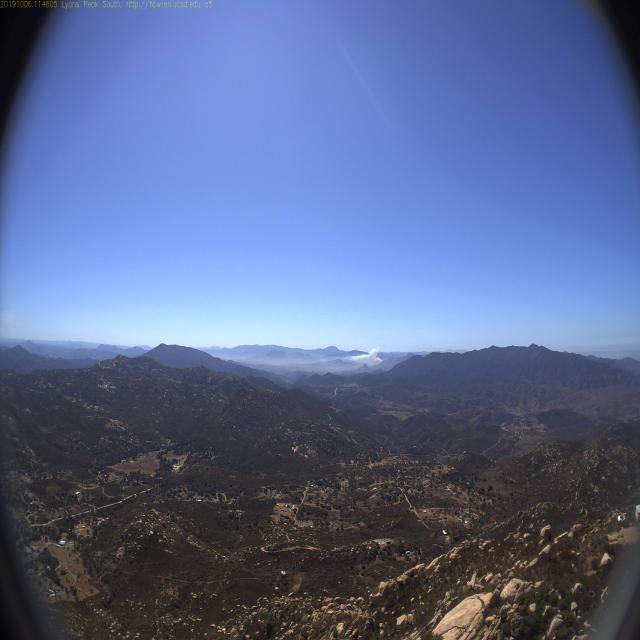smoke: (350, 345, 389, 366)
